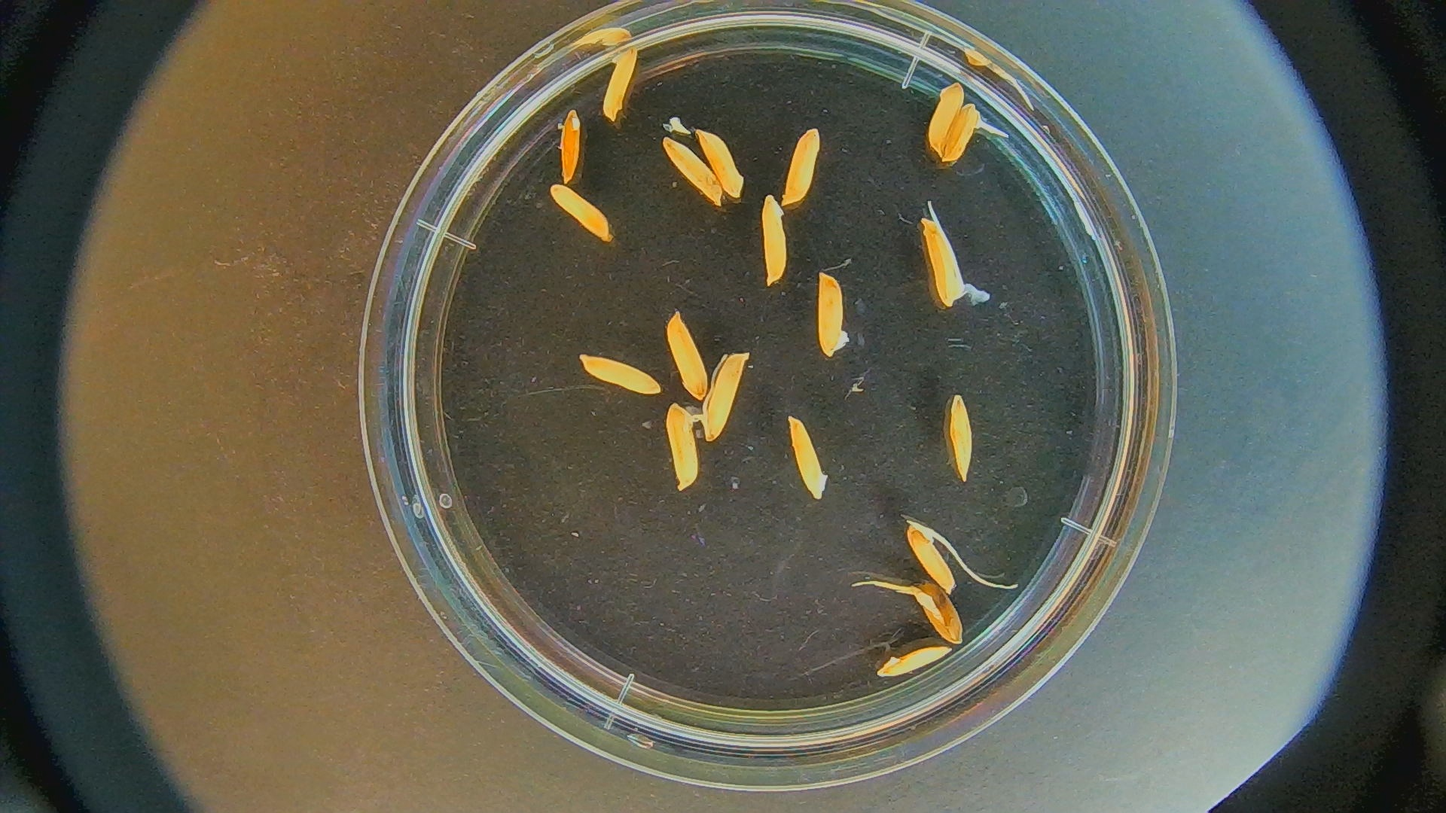no: (548, 181, 614, 245), (662, 137, 722, 203), (666, 310, 709, 400), (786, 416, 829, 499), (580, 354, 660, 397), (781, 126, 822, 207), (666, 400, 703, 488), (818, 270, 854, 356), (697, 130, 743, 196), (598, 49, 639, 120), (878, 641, 950, 679), (761, 196, 791, 285), (928, 83, 963, 154), (947, 394, 974, 483), (558, 108, 580, 184)
yes: (704, 352, 748, 438), (926, 219, 967, 308), (908, 520, 956, 592), (910, 583, 964, 645), (941, 104, 986, 163)
